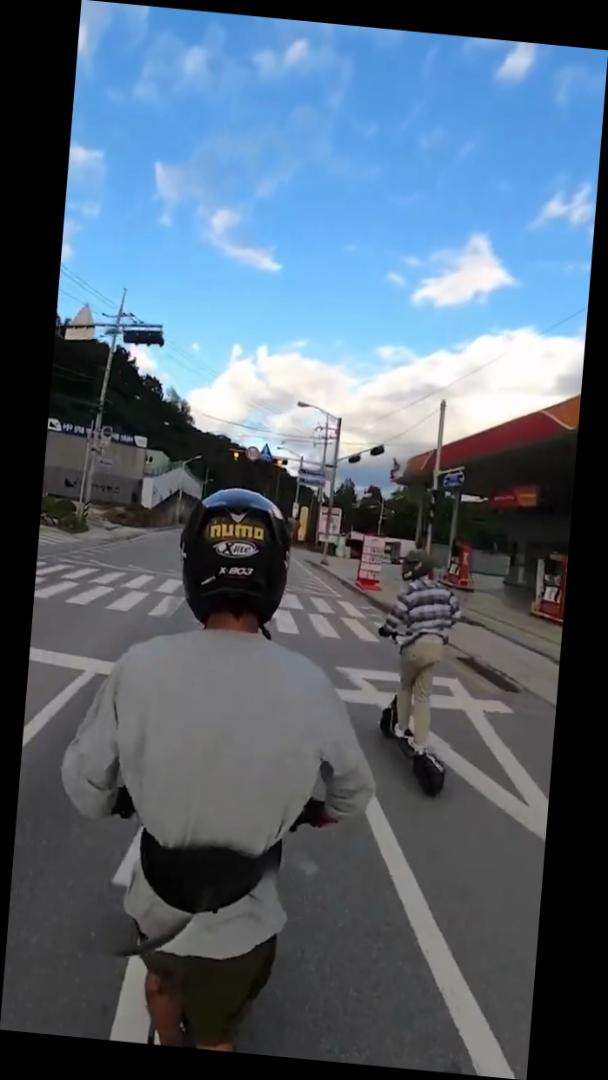helmet: (37, 470, 401, 1064), (365, 540, 467, 798)
